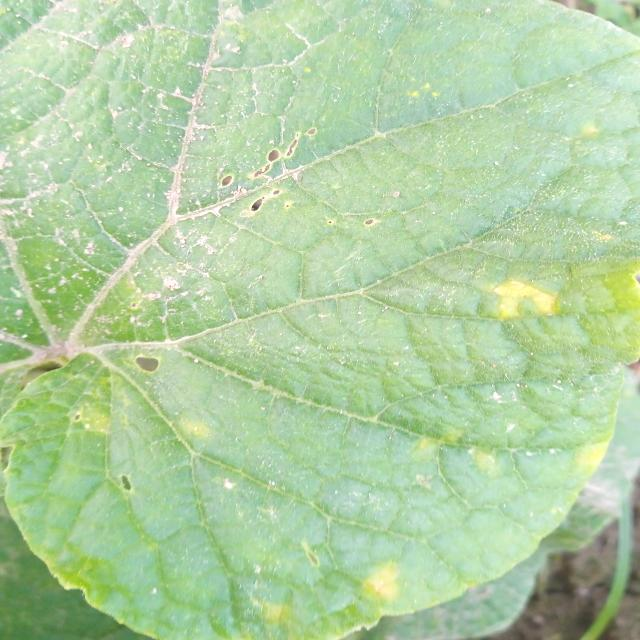cucumber_downy: (13, 192, 619, 634)
